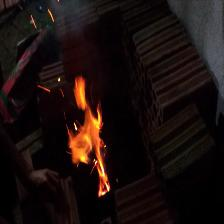fire: (50, 73, 131, 203)
